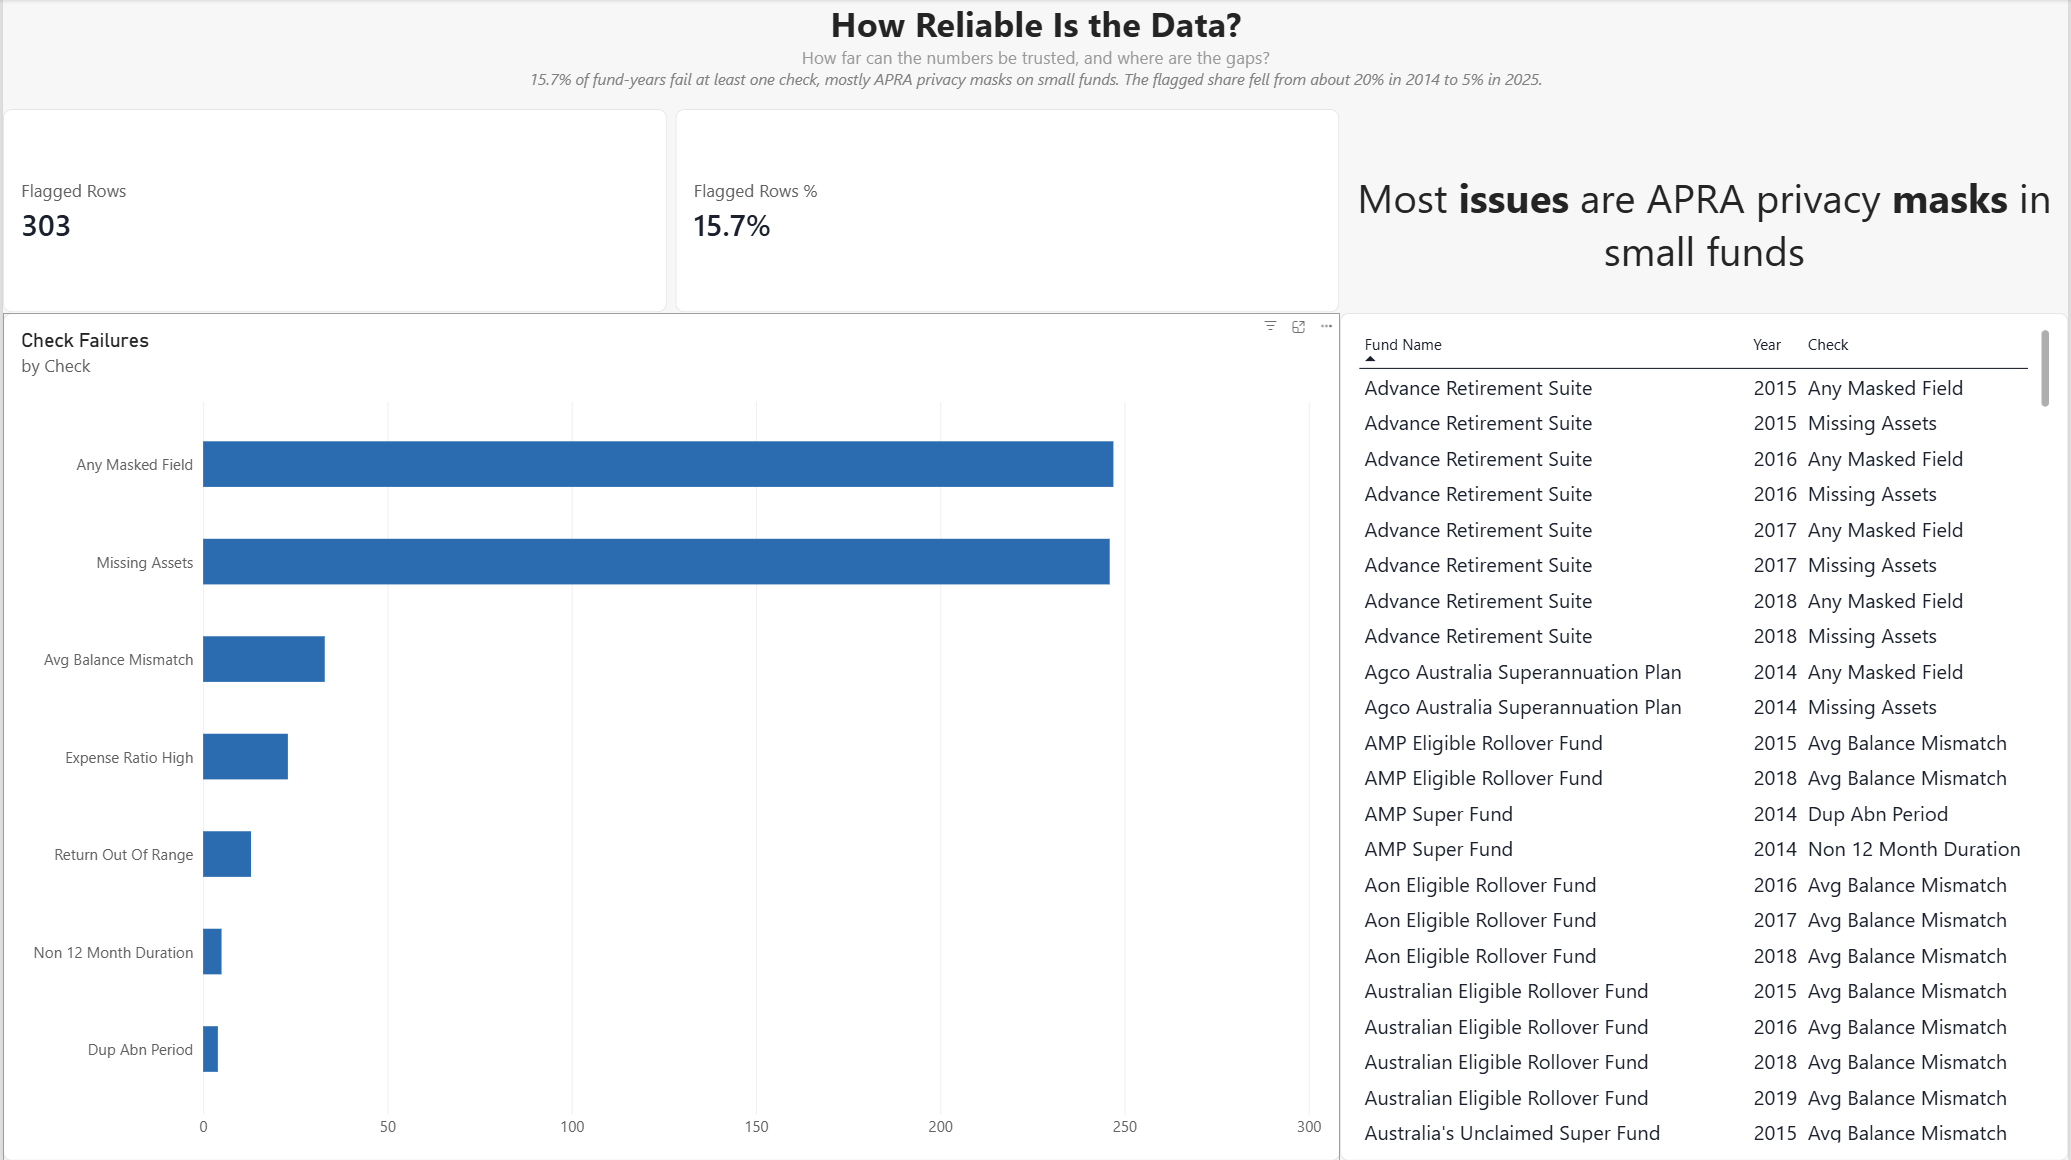

This screenshot's page, from the dashboard's own definition file:
{"tool":"powerbi","page":{"name":"Data Quality","canvas":[1920,1080],"ordinal":3},"visuals":[{"type":"cardVisual","fields":{"Data":["_Measures.Flagged Rows","_Measures.Flagged Rows %"]},"box":[0,102.2,1242.6,189.2],"z":0},{"type":"clusteredBarChart","fields":{"Category":["FactDQCheck.Check"],"Y":["_Measures.Check Failures"]},"box":[0,291.8,1242.7,788.2],"z":1000},{"type":"tableEx","fields":{"Values":["DimFund.Fund Name","DimYear.Year","FactDQCheck.Check"]},"box":[1242.7,291.8,677.6,788.2],"z":2000},{"type":"textbox","box":[1242.7,102.2,677.4,189.2],"z":3000},{"type":"textbox","box":[0,0,1920,102.2],"z":3001}]}

Visuals, with their boxes in screenshot pixels (x1, y1, x2, y2), scaled from the page's 1920x1080 canvas onto the 2071x1160 screenshot:
cardVisual - _Measures.Flagged Rows x _Measures.Flagged Rows %: x1=0 y1=110 x2=1340 y2=313
clusteredBarChart - FactDQCheck.Check x _Measures.Check Failures: x1=0 y1=313 x2=1340 y2=1159
tableEx - DimFund.Fund Name x DimYear.Year: x1=1340 y1=313 x2=2070 y2=1159
textbox: x1=1340 y1=110 x2=2070 y2=313
textbox: x1=0 y1=0 x2=2070 y2=110
